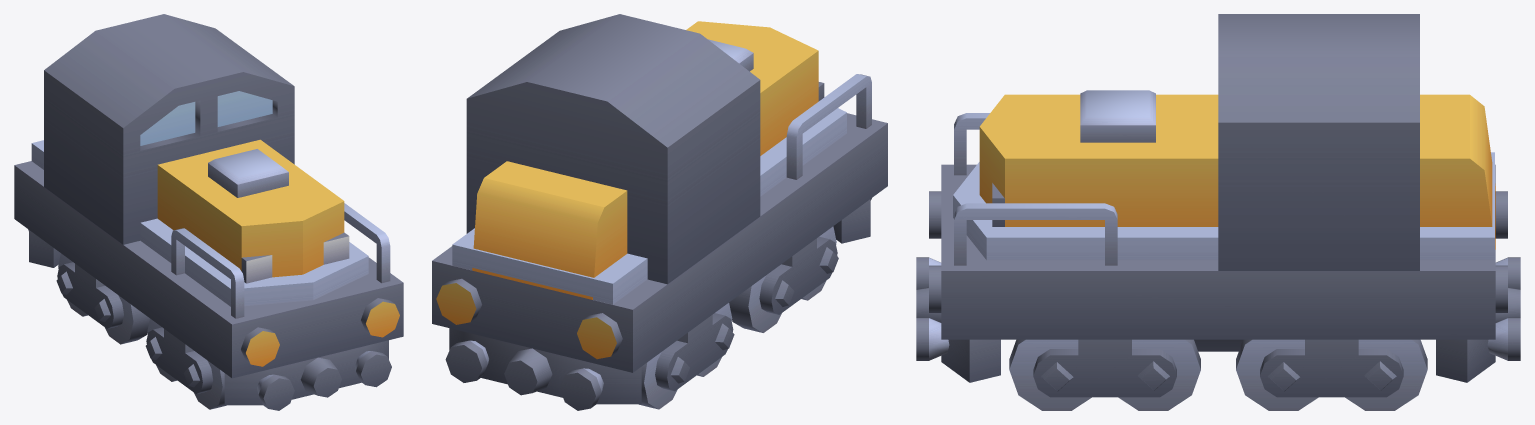
File: kenney-train-train-diesel-c.glb
3 views of the same model, side by side, from view 1: azimuth 30°, elevation 25°; view 2: azimuth 150°, elevation 25°; view 3: azimuth 270°, elevation 25° (orthographic). The views are drawn at different scales.
Visible parts, largest first — view 1: train-diesel-c, wheels-back, wheels-front; view 2: train-diesel-c, wheels-front, wheels-back; view 3: train-diesel-c, wheels-front, wheels-back.
Part boxes in pixels (bbox=[...]): train-diesel-c: bbox=[14, 14, 403, 410]; wheels-back: bbox=[56, 253, 149, 344]; wheels-front: bbox=[145, 318, 226, 409]; train-diesel-c: bbox=[432, 14, 887, 410]; wheels-front: bbox=[729, 226, 838, 332]; wheels-back: bbox=[639, 303, 734, 409]; train-diesel-c: bbox=[916, 14, 1520, 382]; wheels-front: bbox=[1009, 339, 1200, 410]; wheels-back: bbox=[1236, 339, 1427, 410].
Bounding box in the file's own units: 1 × 1.46 × 2.4.
1 material, 1 textured.
